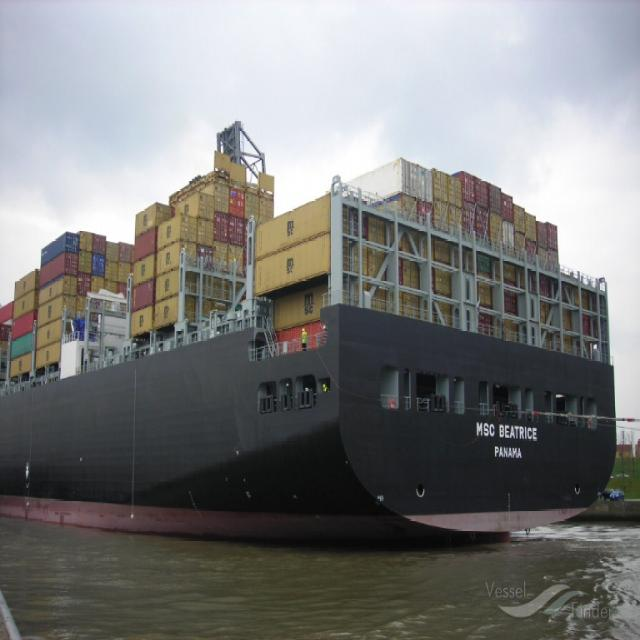Container Ship: (0, 149, 617, 537)
